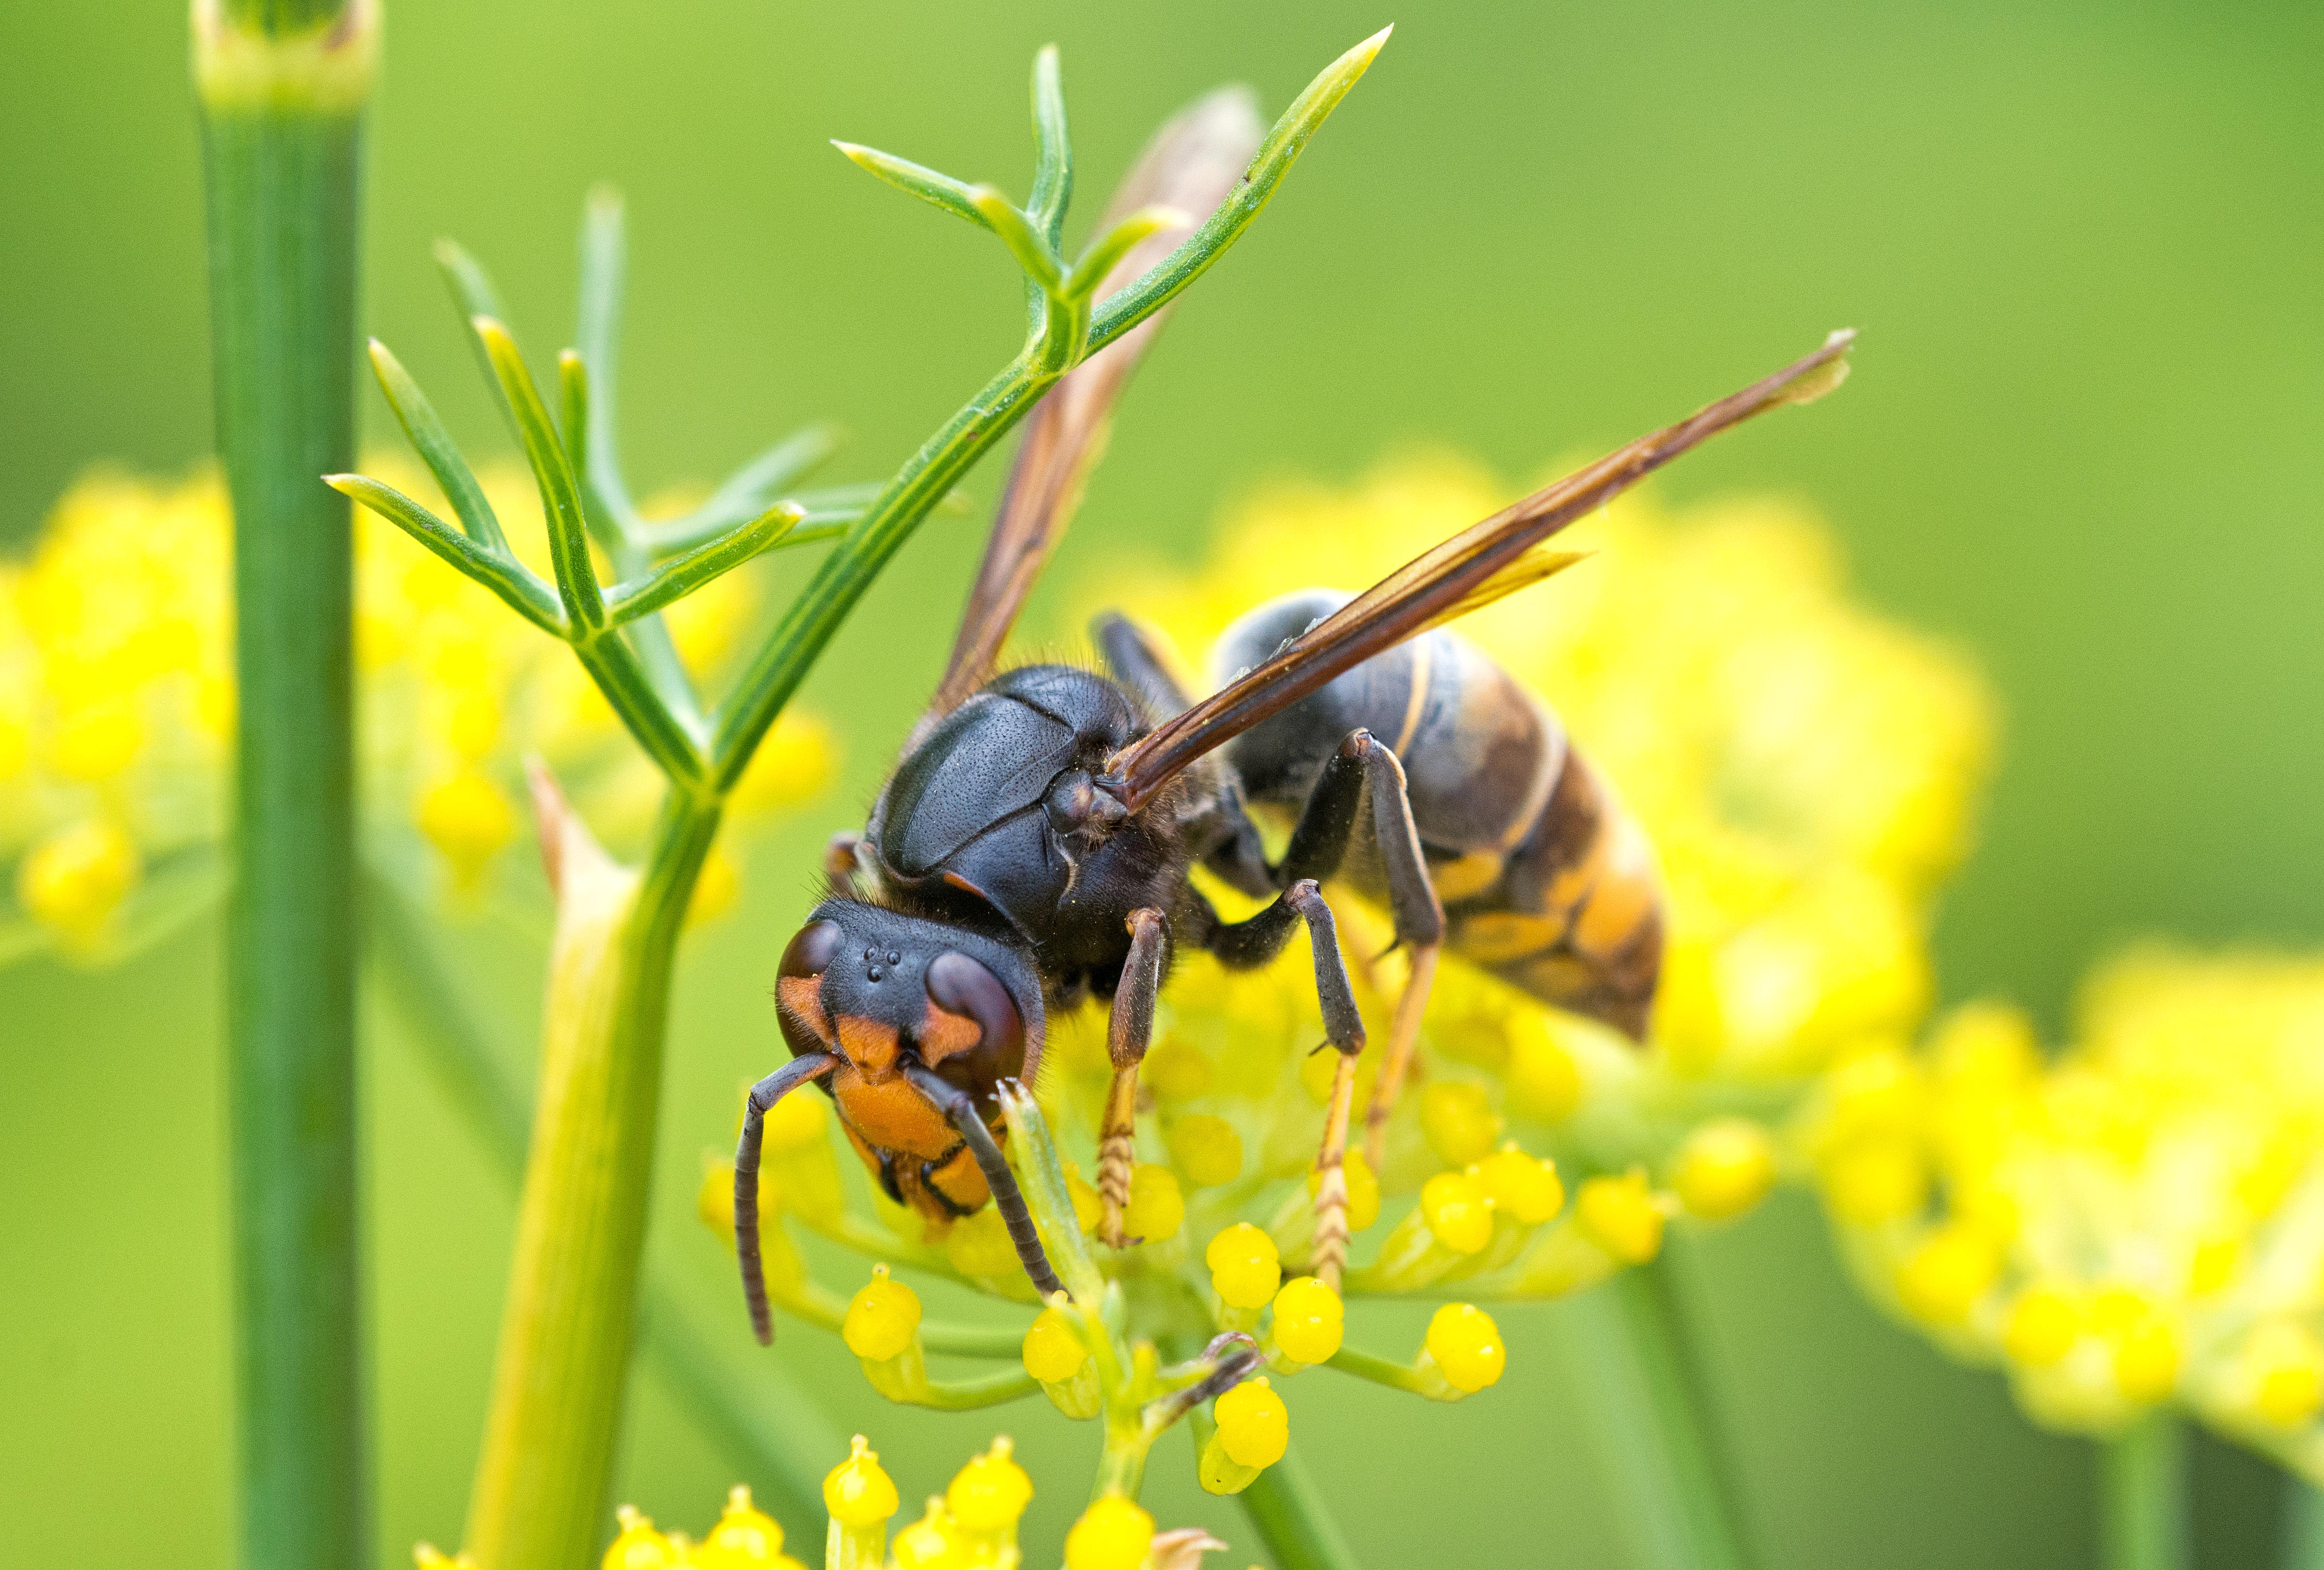hornet: (673, 342, 1844, 1311)
